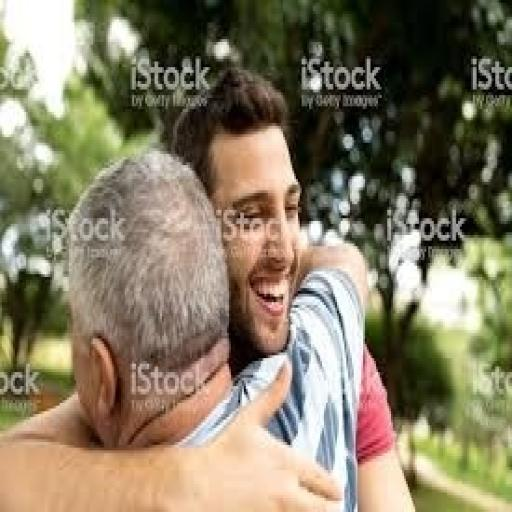hugging: (0, 59, 417, 509)
